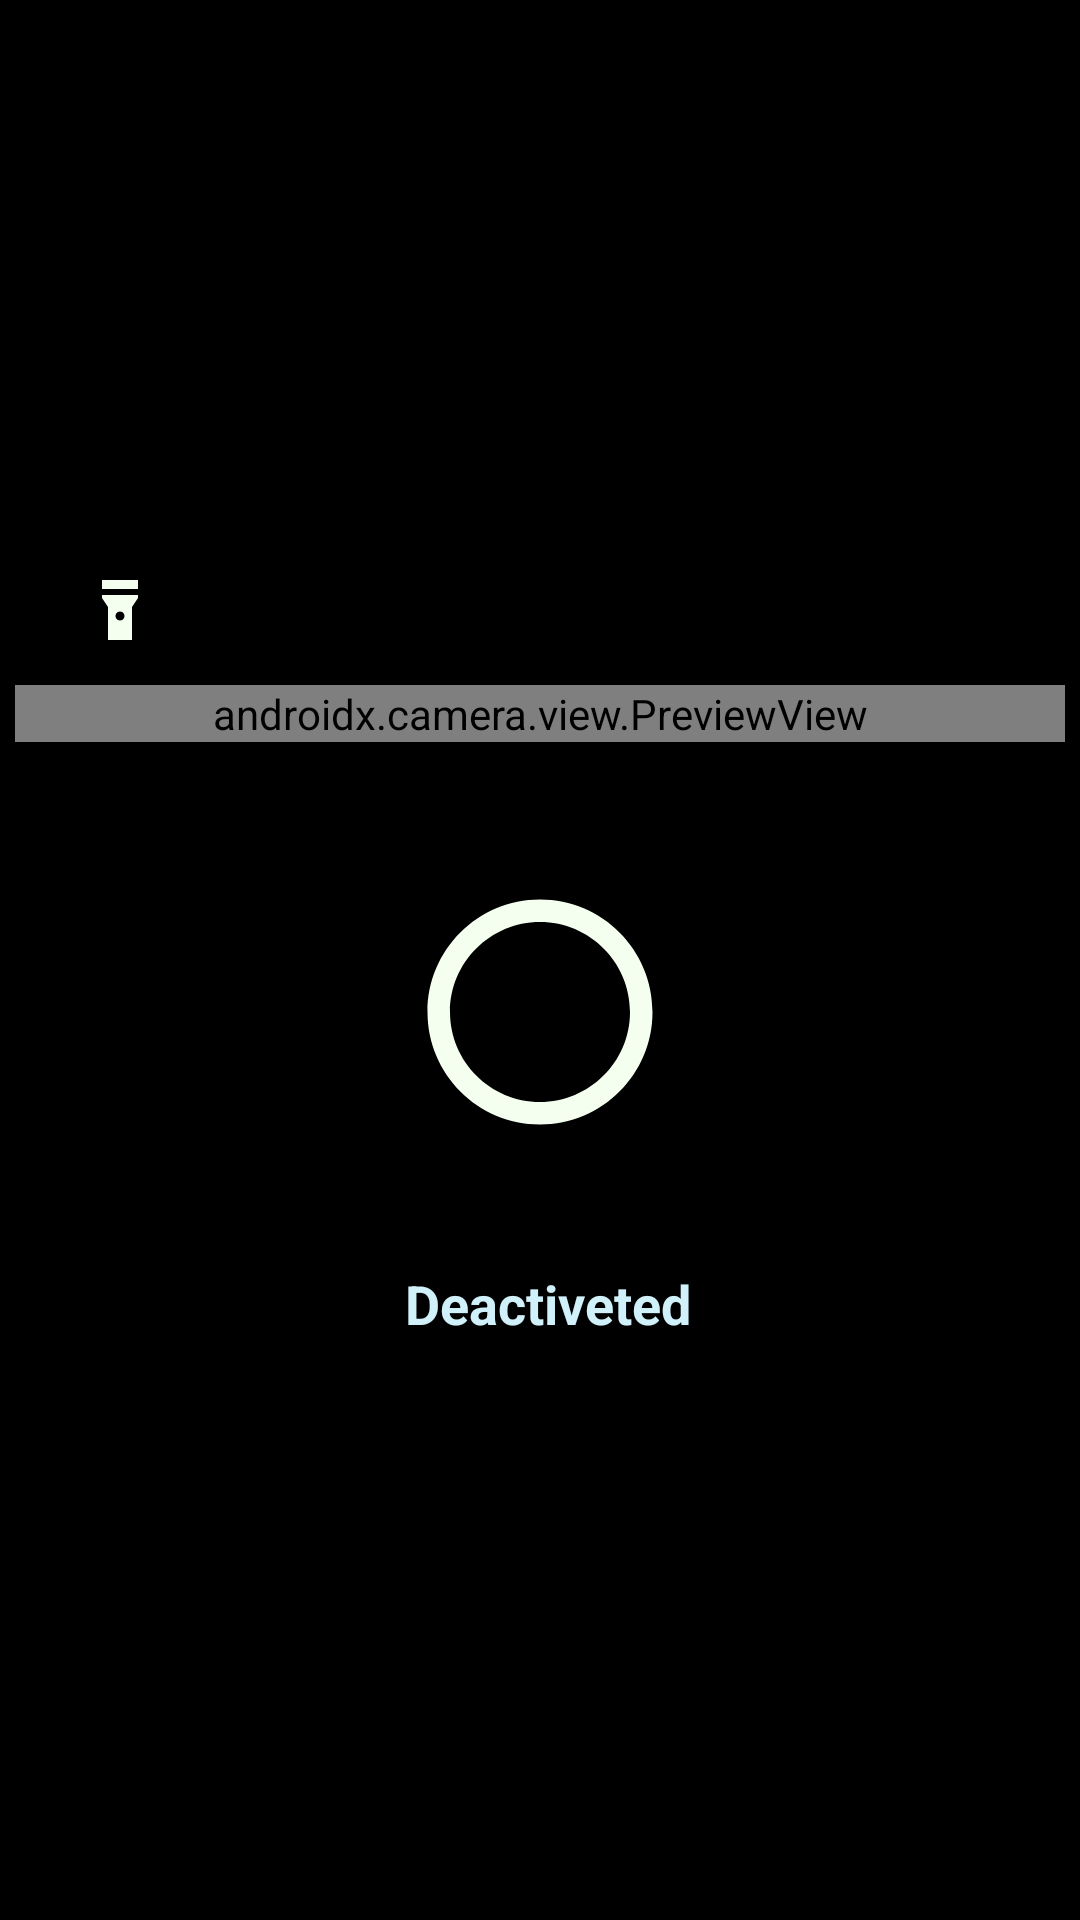

Point at icon controls on the screen. Image size 1080 x 1920, points as point (x, y).
flashlight on: point (120, 610)
panorama fish eye: point (540, 1012)
